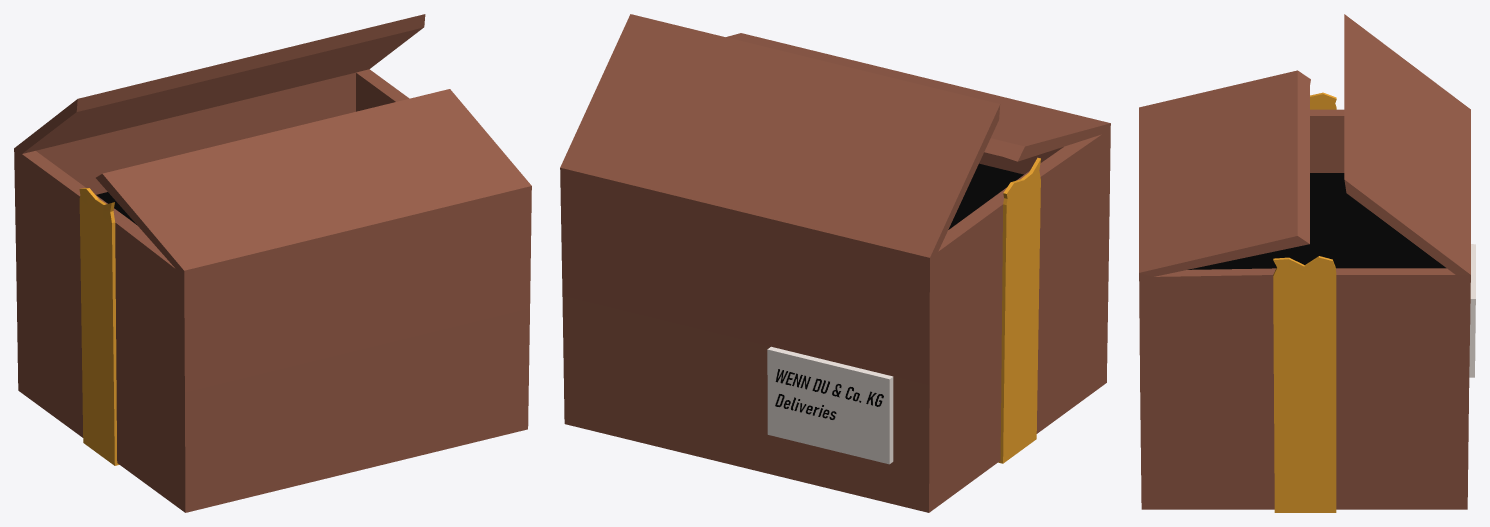
Rendered from mysterybox.fbx.
The picture shows the model from 3 angles, left to right: view 1: azimuth 30°, elevation 25°; view 2: azimuth 150°, elevation 25°; view 3: azimuth 270°, elevation 25°; orthographic projection. The views are drawn at different scales.
Visible parts, largest first — view 1: Cube; view 2: Cube; view 3: Cube.
Boxes of the visible parts, x1,y1,x2,y2 form: Cube: (14, 14, 531, 512); Cube: (560, 14, 1110, 512); Cube: (1139, 14, 1475, 512).
Bounding box in the file's own units: 2.21 × 2.04 × 1.87.
1 material, 1 textured.
